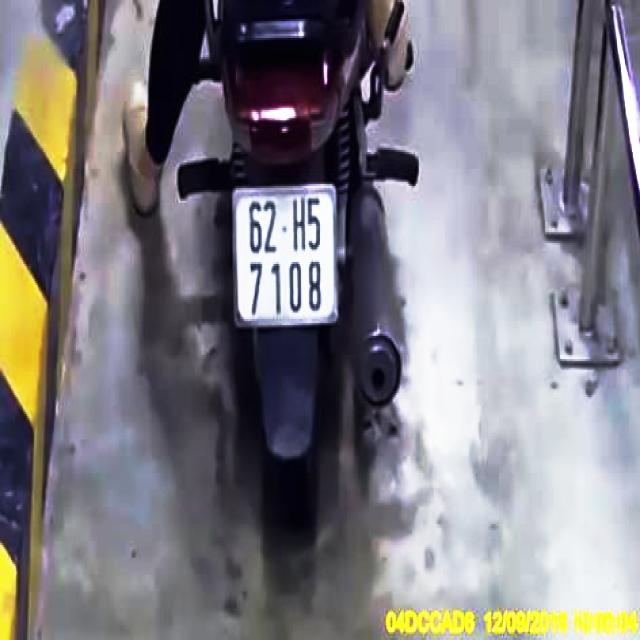license_plate: (235, 191, 336, 324)
